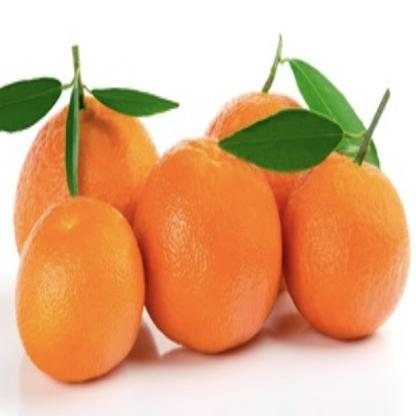fresh: (9, 53, 406, 388)
